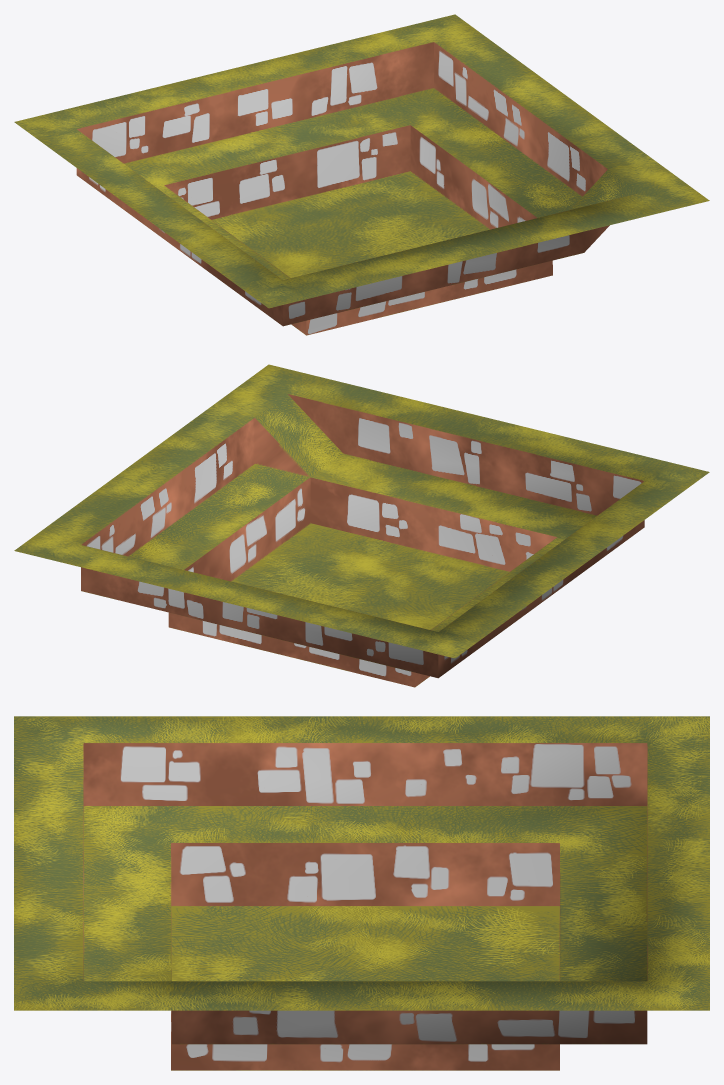
File: Mod_CarriereDeSucre.gltf
3 renders of one model, top to bottom at view 1: azimuth 30°, elevation 25°; view 2: azimuth 150°, elevation 25°; view 3: azimuth 270°, elevation 25°, orthographic. The views are drawn at different scales.
Parts seen in each view (by area): view 1: Carrière; view 2: Carrière; view 3: Carrière.
Boxes of the visible parts, x1,y1,x2,y2 form: Carrière: (14, 14, 709, 335); Carrière: (14, 364, 709, 687); Carrière: (14, 716, 709, 1070).
Size of the model in its own units: 14.67 by 2.94 by 14.67.
1 material, 1 textured.
